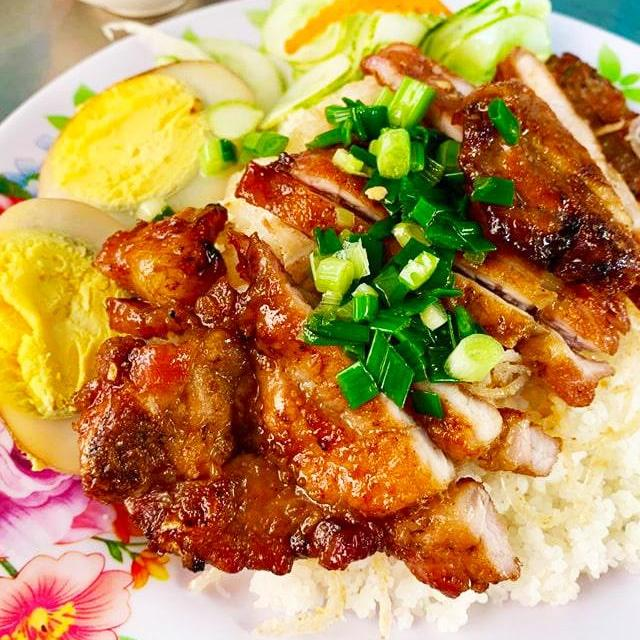bi: (459, 345, 574, 444)
com: (464, 362, 640, 611), (247, 543, 494, 640)
com suon bi trung: (0, 33, 640, 640)
dua chua: (279, 0, 457, 64)
suon: (69, 199, 526, 601), (231, 142, 636, 409), (219, 224, 566, 525), (359, 43, 640, 304), (486, 45, 640, 252)
trung: (28, 53, 267, 250), (0, 193, 162, 482)
